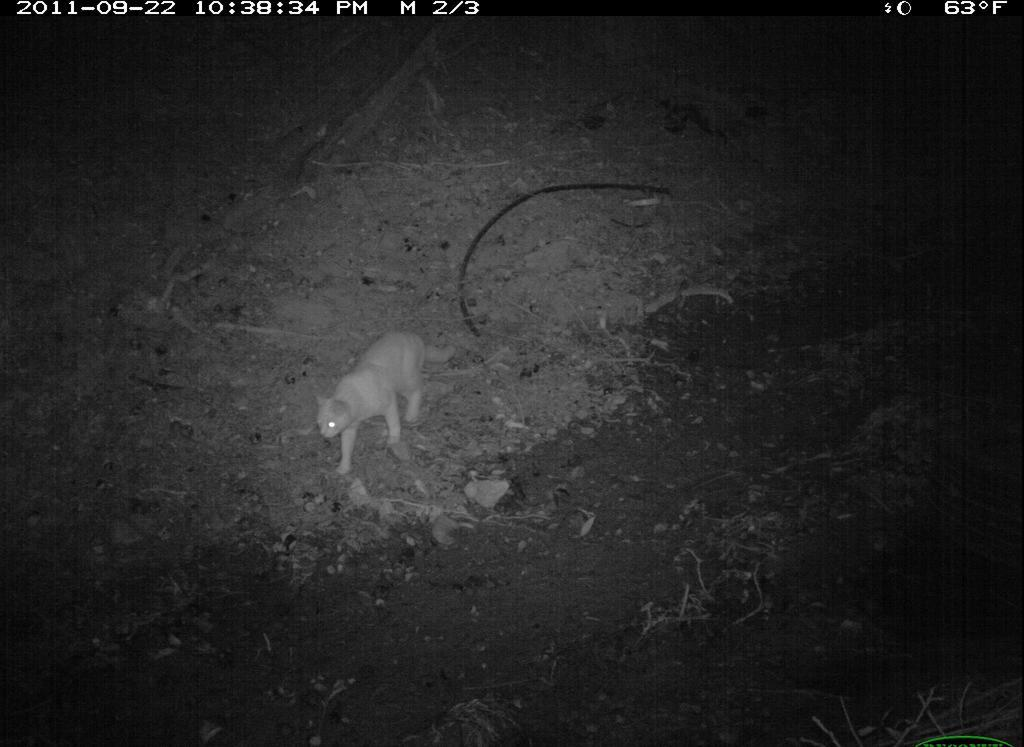cat: (306, 322, 484, 483)
